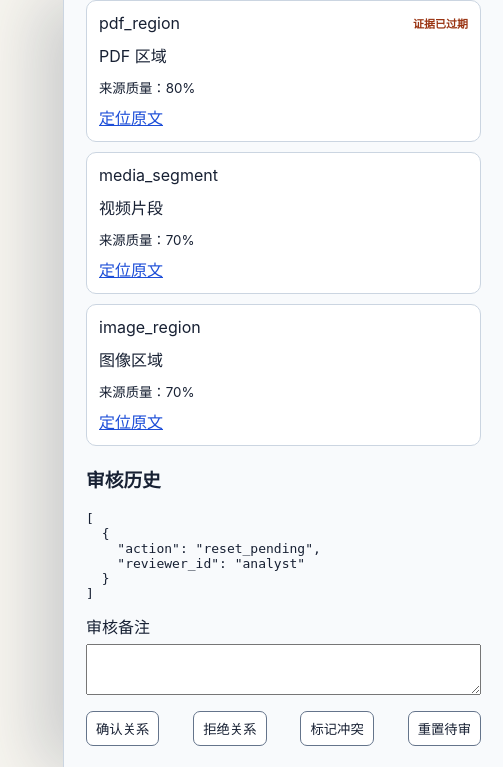
Test case: EvidenceAuditDrawer › keeps the review note and reloads the newer edge after a 409 conflict
(page scrolled)
Type "我已核对来源" into the text box labelled "审核备注" at (284, 669), box x1=86 y1=644 x2=481 y2=695
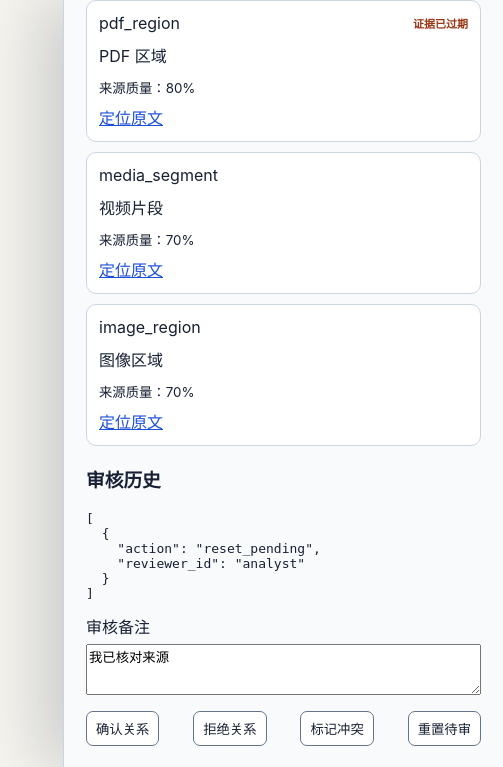
Click the button "确认关系" at (123, 728), box x1=86 y1=711 x2=159 y2=746
(page scrolled)
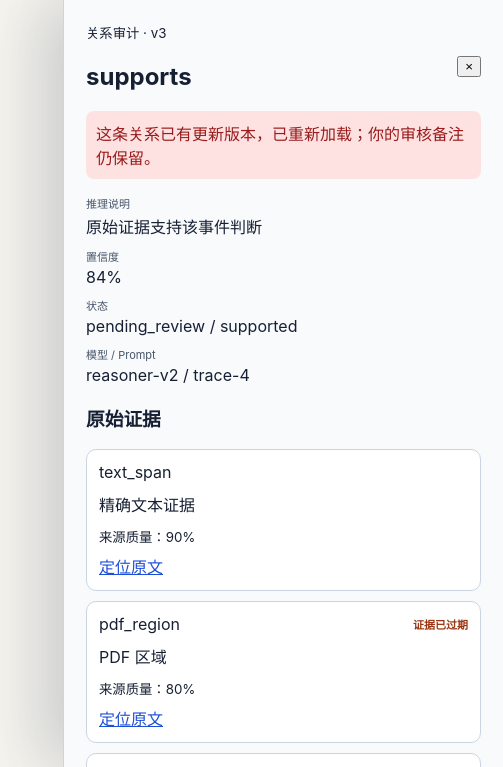
Expected: the text "这条关系已有更新版本，已重新加载；你的审核备注仍保留。" is shown, x1=86 y1=111 x2=481 y2=179
